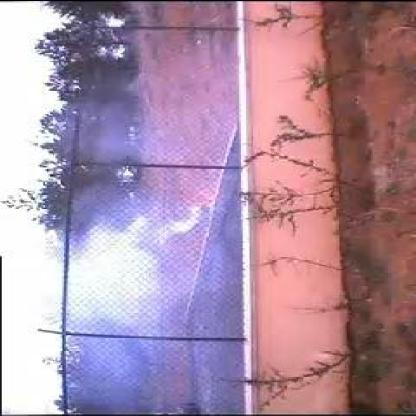-: (64, 184, 234, 378)
